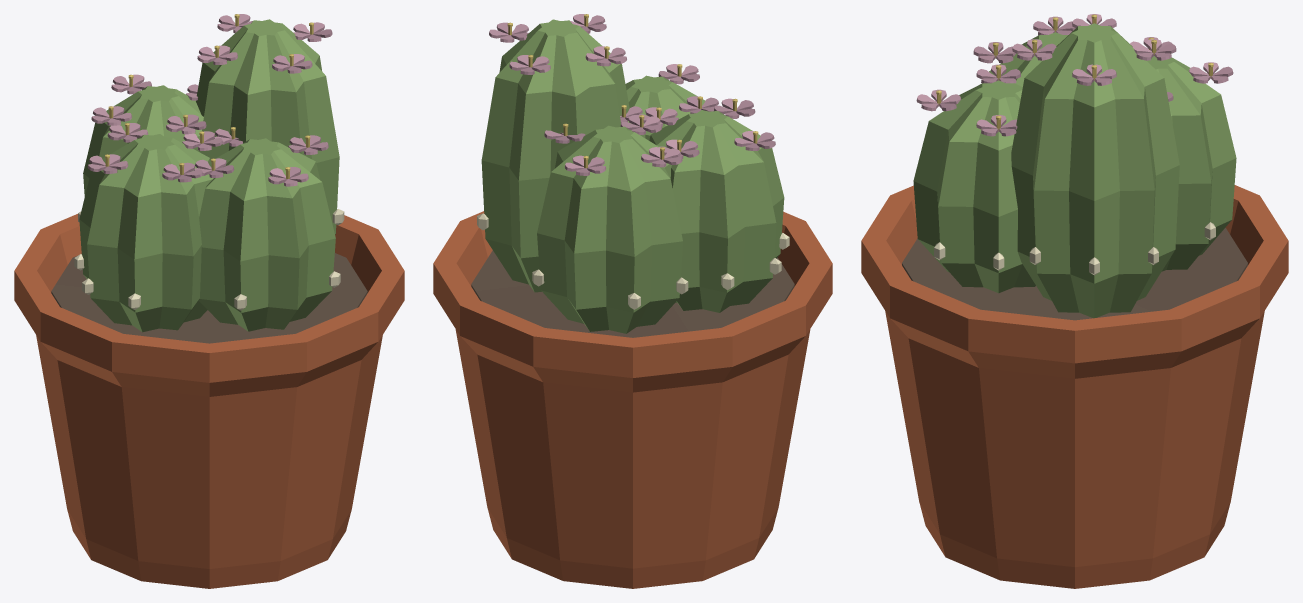
File: cluster.glb
The picture shows the model from 3 angles, left to right: view 1: azimuth 30°, elevation 25°; view 2: azimuth 150°, elevation 25°; view 3: azimuth 270°, elevation 25°; orthographic projection. The views are drawn at different scales.
Visible parts, largest first — view 1: cluster/review-terra-vessel, cluster/ribbed-stem-106, cluster/ribbed-stem-071, cluster/ribbed-stem-001, cluster/review-rooted-soil, cluster/ribbed-stem-036; view 2: cluster/review-terra-vessel, cluster/ribbed-stem-036, cluster/ribbed-stem-001, cluster/ribbed-stem-071, cluster/review-rooted-soil, cluster/ribbed-stem-106; view 3: cluster/review-terra-vessel, cluster/ribbed-stem-001, cluster/ribbed-stem-106, cluster/ribbed-stem-036, cluster/review-rooted-soil, cluster/ribbed-stem-071.
Part boxes in pixels (<box>): cluster/review-terra-vessel: <box>14,214,404,588</box>; cluster/ribbed-stem-106: <box>198,138,335,331</box>; cluster/ribbed-stem-071: <box>79,134,213,332</box>; cluster/ribbed-stem-001: <box>196,19,339,234</box>; cluster/review-rooted-soil: <box>51,253,367,343</box>; cluster/ribbed-stem-036: <box>83,85,203,196</box>; cluster/review-terra-vessel: <box>433,211,832,588</box>; cluster/ribbed-stem-036: <box>537,125,682,333</box>; cluster/ribbed-stem-001: <box>481,19,629,292</box>; cluster/ribbed-stem-071: <box>649,110,784,312</box>; cluster/review-rooted-soil: <box>471,250,794,337</box>; cluster/ribbed-stem-106: <box>625,75,705,140</box>; cluster/review-terra-vessel: <box>861,185,1288,588</box>; cluster/ribbed-stem-001: <box>1011,23,1179,318</box>; cluster/ribbed-stem-106: <box>913,80,1035,293</box>; cluster/ribbed-stem-036: <box>1147,56,1236,271</box>; cluster/review-rooted-soil: <box>902,228,1247,320</box>; cluster/ribbed-stem-071: <box>989,32,1068,86</box>.
Size of the model in its own units: 0.19 by 0.2586 by 0.19.
6 materials, 6 textured.
